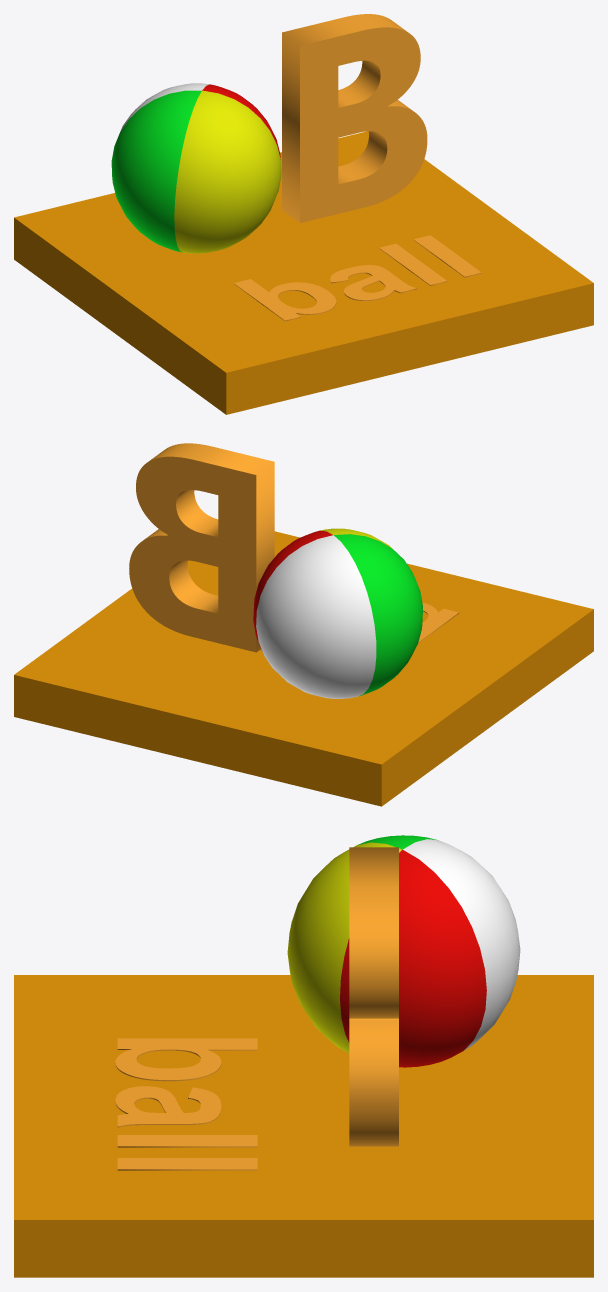
The model's file is bletter.glb.
The picture shows the model from 3 angles, top to bottom: view 1: azimuth 30°, elevation 25°; view 2: azimuth 150°, elevation 25°; view 3: azimuth 270°, elevation 25°; orthographic projection. The views are drawn at different scales.
Visible parts, largest first — view 1: Cube, Text.003, Sphere.001, Text.002; view 2: Cube, Sphere.001, Text.003, Text.002; view 3: Cube, Sphere.001, Text.003, Text.002.
Boxes of the visible parts, left/top/right/bottom form: Cube: left=14, top=131, right=593, bottom=414; Text.003: left=282, top=14, right=427, bottom=222; Sphere.001: left=111, top=83, right=281, bottom=253; Text.002: left=234, top=235, right=481, bottom=321; Cube: left=14, top=531, right=593, bottom=806; Sphere.001: left=253, top=528, right=422, bottom=698; Text.003: left=129, top=443, right=274, bottom=652; Text.002: left=418, top=603, right=459, bottom=642; Cube: left=14, top=975, right=593, bottom=1277; Sphere.001: left=287, top=835, right=520, bottom=1067; Text.003: left=349, top=847, right=398, bottom=1146; Text.002: left=115, top=1038, right=257, bottom=1170.
Bounding box in the file's own units: 0.327 × 0.1966 × 0.327.
